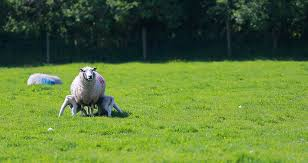sheep: (73, 66, 105, 115), (95, 96, 124, 119), (55, 93, 76, 117)
